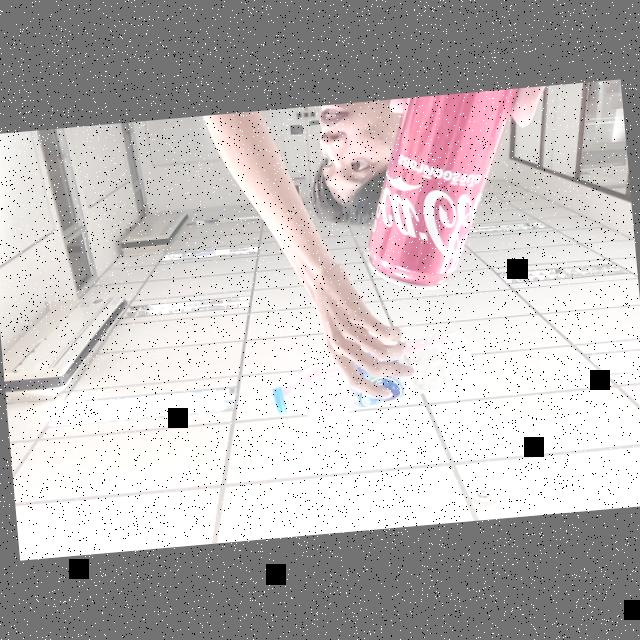can: (344, 88, 536, 300)
plastic_bottle: (259, 324, 477, 430)
plastic_bottle_cap: (273, 388, 289, 416)
straw: (297, 335, 463, 383)
